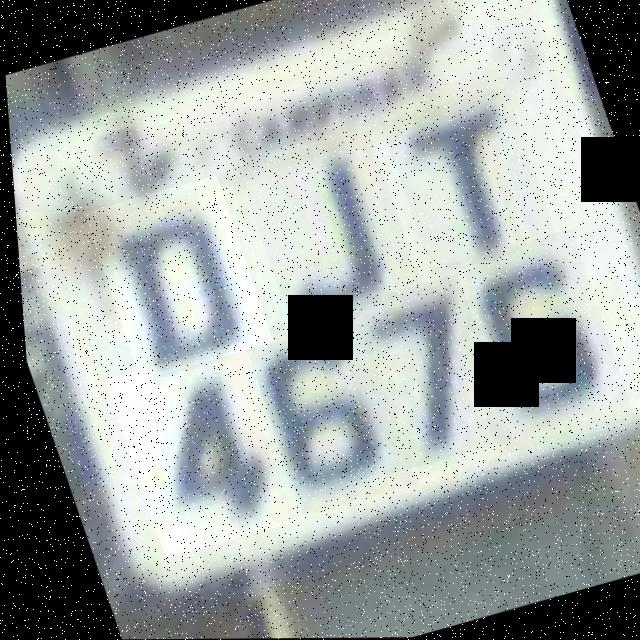4: (96, 340, 299, 559)
6: (428, 229, 631, 457), (204, 303, 412, 524)
7: (321, 274, 509, 476)
J: (233, 130, 423, 329)
O: (78, 175, 270, 379)
T: (376, 87, 556, 277)
